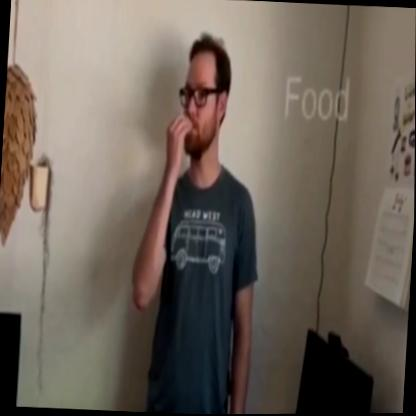Food: (157, 14, 241, 198)
